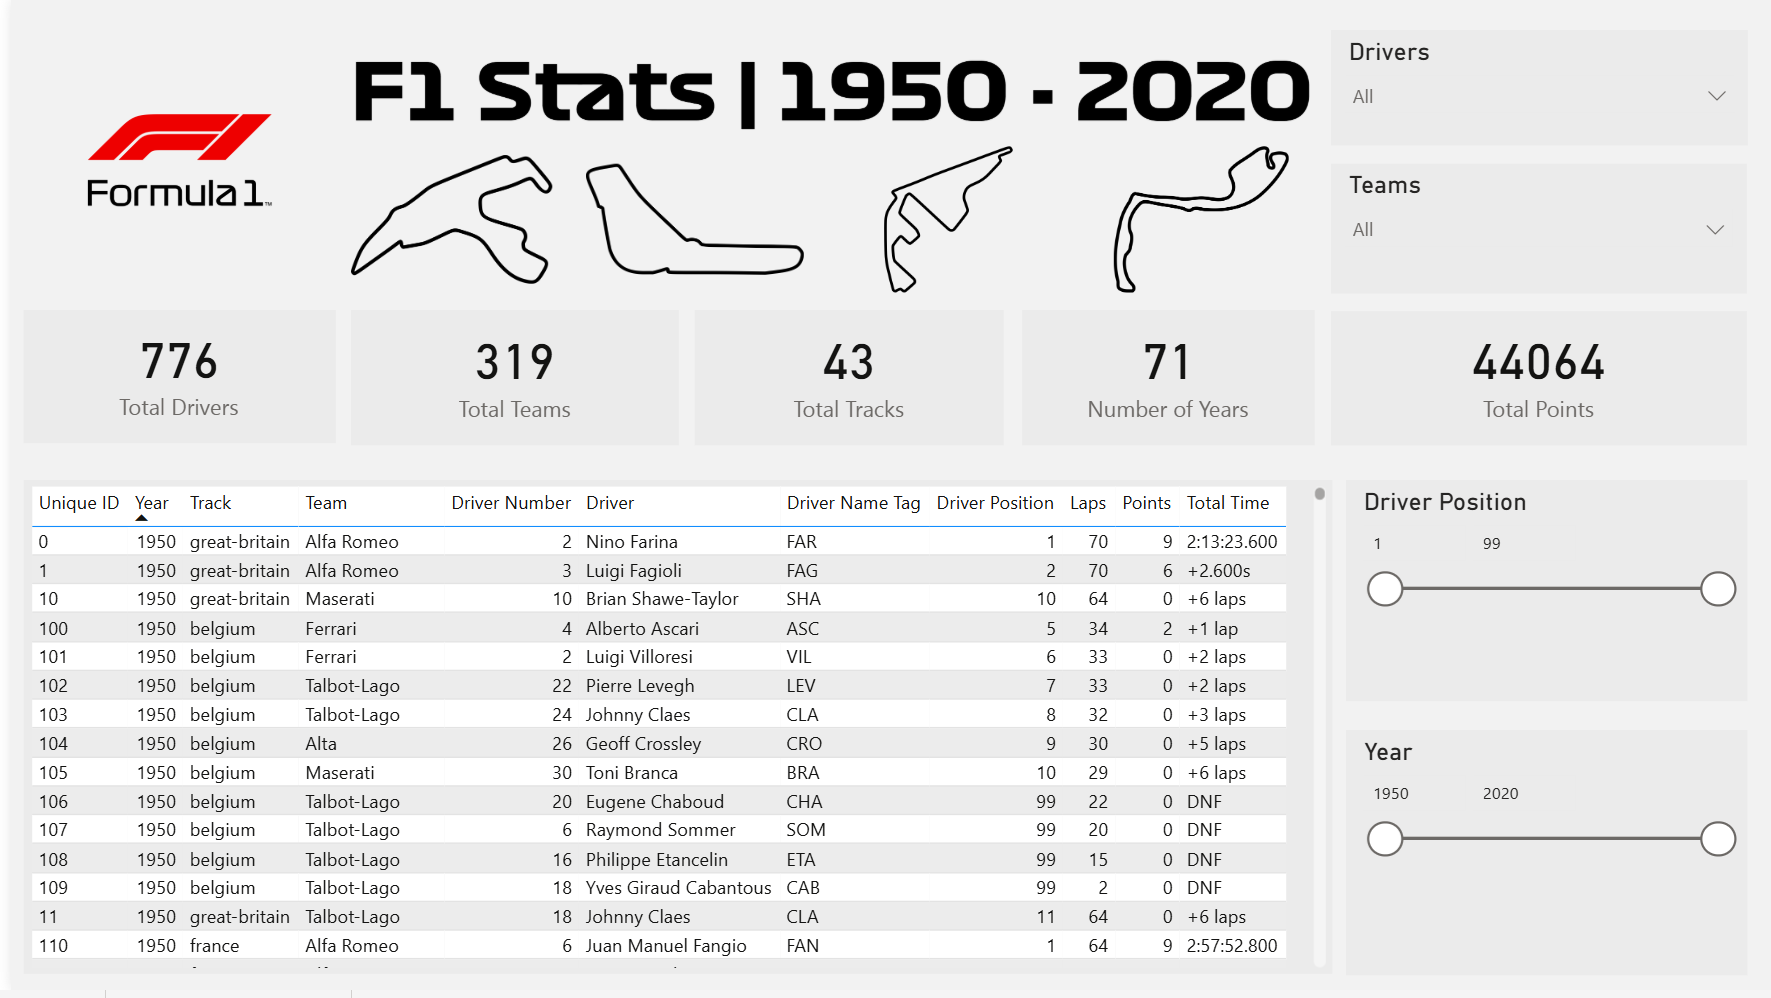

The page's visual inventory and layout, read from the dashboard file:
{"tool":"powerbi","page":{"name":"Tabular Stats","canvas":[1280,720],"ordinal":0},"visuals":[{"type":"tableEx","fields":{"Values":["RPT vw_RaceResults.UniqueID","RPT vw_RaceResults.Year","RPT vw_RaceResults.TrackName","RPT vw_RaceResults.DriverTeam","RPT vw_RaceResults.DriverNumber","RPT vw_RaceResults.DriverName","RPT vw_RaceResults.DriverNameTag","RPT vw_RaceResults.DriverPosition","RPT vw_RaceResults.Laps","RPT vw_RaceResults.Points","RPT vw_RaceResults.TotalTime"]},"box":[9.2,349.2,952.3,359.5],"z":1000},{"type":"image","title":"F1 Stats Banner","box":[247.1,21.3,701,83.9],"z":2000},{"type":"image","title":"F1 Logo","box":[9.5,21.3,227,191.5],"z":3000},{"type":"slicer","fields":{"Values":["RPT vw_RaceResults.Year"]},"box":[970.6,530.7,291.8,178],"z":4000},{"type":"slicer","fields":{"Values":["RPT vw_RaceResults.DriverTeam"]},"box":[960.3,119.5,302.1,94.2],"z":5000},{"type":"slicer","fields":{"Values":["RPT vw_RaceResults.DriverName"]},"box":[960.3,21.8,303.3,83.9],"z":6000},{"type":"cardVisual","fields":{"Data":["RPT vw_RaceResults.DriverName"]},"box":[9.5,225.8,227,96.9],"z":7000},{"type":"cardVisual","fields":{"Data":["RPT vw_RaceResults.DriverTeam"]},"box":[247.1,225.8,238.8,98.1],"z":8000},{"type":"cardVisual","fields":{"Data":["RPT vw_RaceResults.TrackName"]},"box":[497.7,225.8,224.6,98.1],"z":9000},{"type":"cardVisual","fields":{"Data":["RPT vw_RaceResults.Year"]},"box":[735.3,225.8,212.8,98.1],"z":10000},{"type":"cardVisual","fields":{"Data":["RPT vw_RaceResults.Points"]},"box":[960.3,226.3,302.1,97.6],"z":11000},{"type":"slicer","fields":{"Values":["RPT vw_RaceResults.DriverPosition"]},"box":[970.6,349.2,291.8,160.8],"z":12000},{"type":"image","box":[247.1,106.4,146.6,106.4],"z":13000},{"type":"image","box":[418.5,105.2,158.4,107.6],"z":14000},{"type":"image","box":[598.2,106.4,166.7,106.4],"z":15000},{"type":"image","box":[783.7,106.4,164.3,106.4],"z":16000}]}

Visuals, with their boxes on the page's 1280x720 design canvas (x1, y1, x2, y2). These are canvas units, not pixel positions in the 1771x998 screenshot, which may show the page scaled, cropped or inside an application window:
tableEx - RPT vw_RaceResults.UniqueID x RPT vw_RaceResults.Year: l=9, t=349, r=962, b=709
"F1 Stats Banner" image: l=247, t=21, r=948, b=105
"F1 Logo" image: l=10, t=21, r=236, b=213
slicer - RPT vw_RaceResults.Year: l=971, t=531, r=1262, b=709
slicer - RPT vw_RaceResults.DriverTeam: l=960, t=120, r=1262, b=214
slicer - RPT vw_RaceResults.DriverName: l=960, t=22, r=1264, b=106
cardVisual - RPT vw_RaceResults.DriverName: l=10, t=226, r=236, b=323
cardVisual - RPT vw_RaceResults.DriverTeam: l=247, t=226, r=486, b=324
cardVisual - RPT vw_RaceResults.TrackName: l=498, t=226, r=722, b=324
cardVisual - RPT vw_RaceResults.Year: l=735, t=226, r=948, b=324
cardVisual - RPT vw_RaceResults.Points: l=960, t=226, r=1262, b=324
slicer - RPT vw_RaceResults.DriverPosition: l=971, t=349, r=1262, b=510
image: l=247, t=106, r=394, b=213
image: l=418, t=105, r=577, b=213
image: l=598, t=106, r=765, b=213
image: l=784, t=106, r=948, b=213
